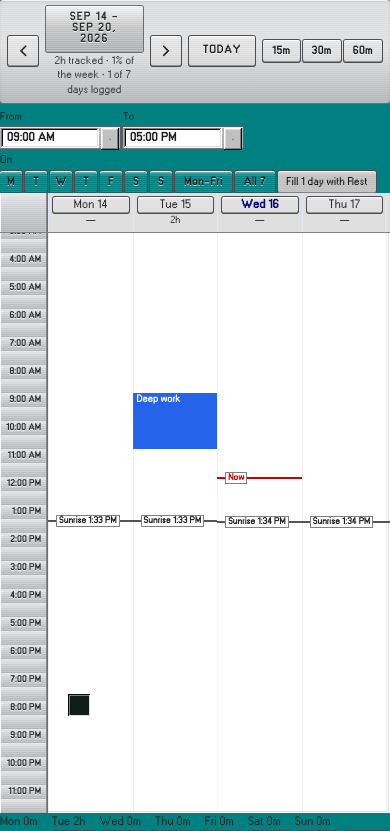
Test: WeekGrid › opens the editor from a labeled block and does not paint over it
The width and height of the screenshot is (390, 831).
(page scrolled)
Press the mouse on the text with class "trk-block-label" at (159, 399), box [137,394,181,404]
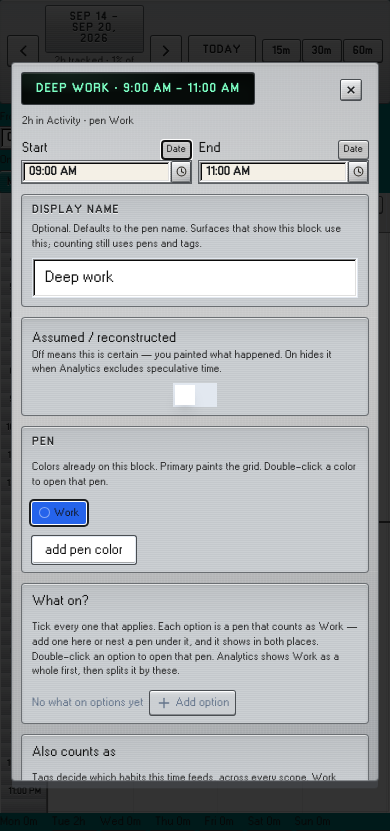
Result: the dialog shows "Deep work" at [36,83,110,94]
